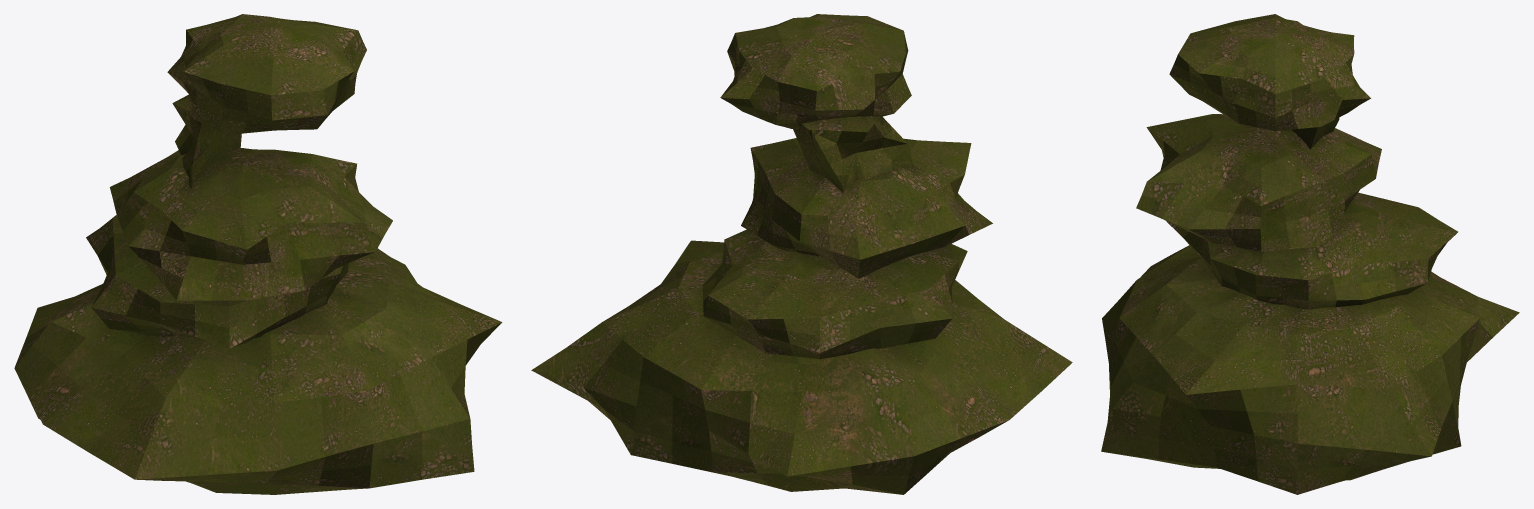
Rendered from stack_2.glb.
3 renders of one model, left to right at view 1: azimuth 30°, elevation 25°; view 2: azimuth 150°, elevation 25°; view 3: azimuth 270°, elevation 25°, orthographic. The views are drawn at different scales.
Visible parts, largest first — view 1: stack; view 2: stack; view 3: stack.
Boxes of the visible parts, <box> form: stack: <box>14,14,502,494</box>; stack: <box>531,14,1072,494</box>; stack: <box>1101,14,1519,494</box>.
Size of the model in its own units: 1.82 by 1.8 by 1.65.
1 material, 1 textured.
